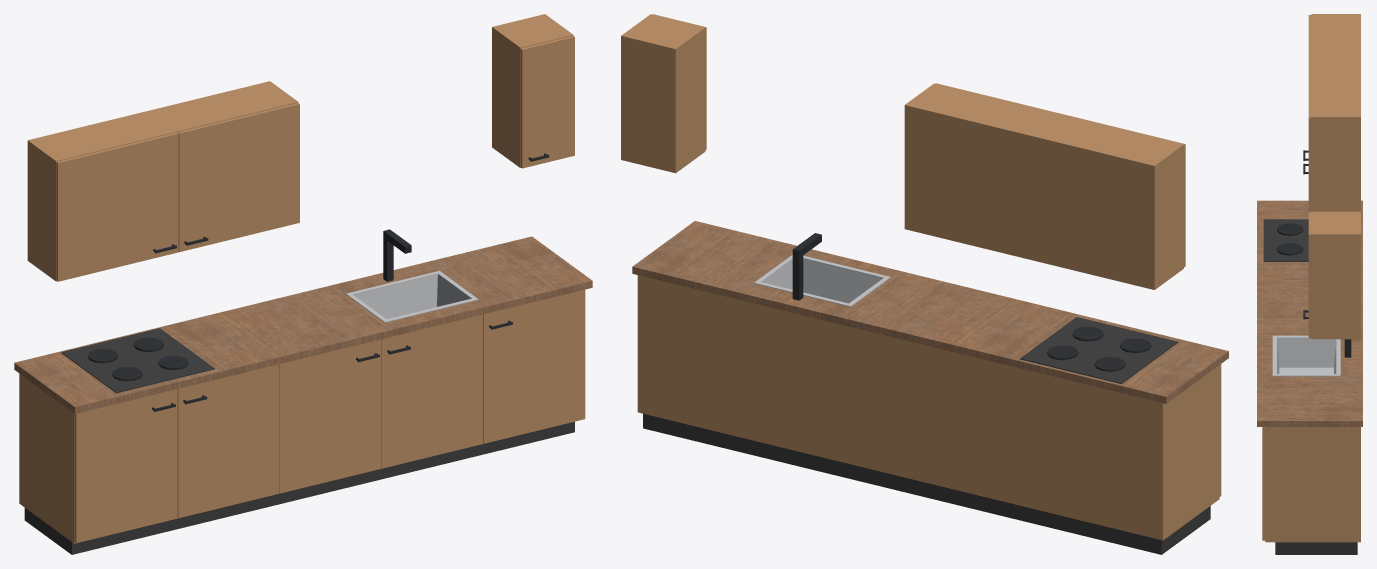
Rendered from MillbrookKitchen.fbx.
3 views of the same model, side by side, from view 1: azimuth 30°, elevation 25°; view 2: azimuth 150°, elevation 25°; view 3: azimuth 270°, elevation 25° (orthographic). The views are drawn at different scales.
Parts seen in each view (by area): view 1: Furn_Kitchen; view 2: Furn_Kitchen; view 3: Furn_Kitchen.
Boxes of the visible parts, bbox=[...] form: Furn_Kitchen: bbox=[14, 14, 592, 554]; Furn_Kitchen: bbox=[621, 14, 1228, 554]; Furn_Kitchen: bbox=[1257, 14, 1362, 554].
Bounding box in the file's own units: 3.22 × 2.19 × 0.64.
